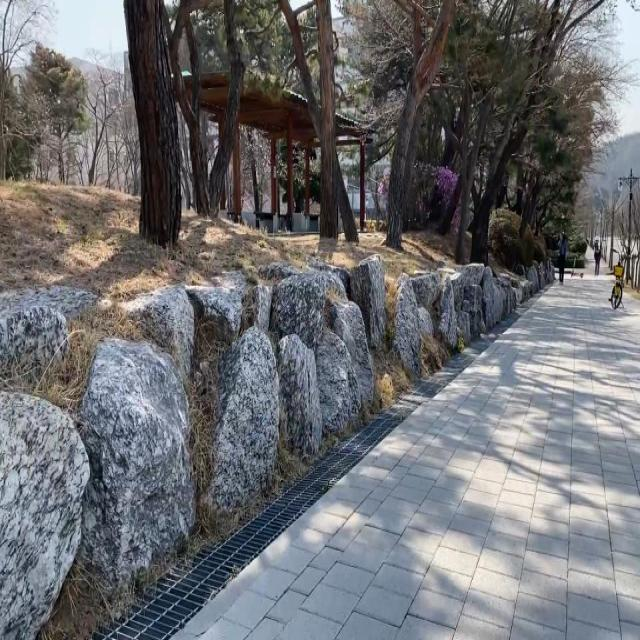sidewalk: (176, 274, 640, 639)
